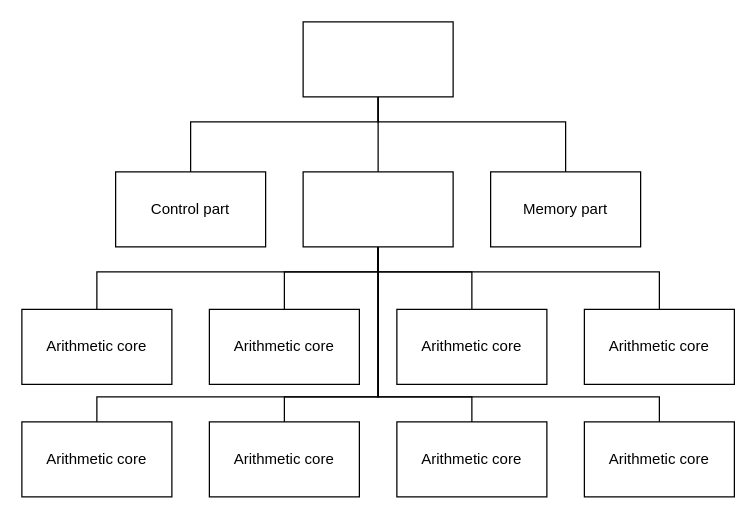
Image size: 756x519. Some labels were removed from this diagram. The centre of each missing label's shape, as x and y in pixels:
Arithmetic part: (x=377, y=209)
NPU: (x=377, y=59)
